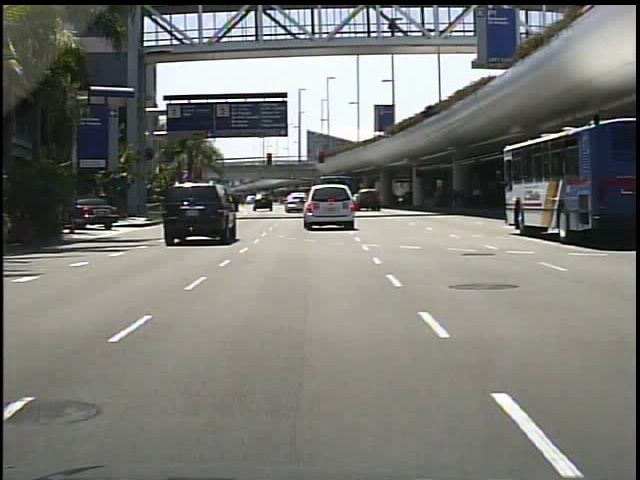person: (379, 19, 398, 43)
